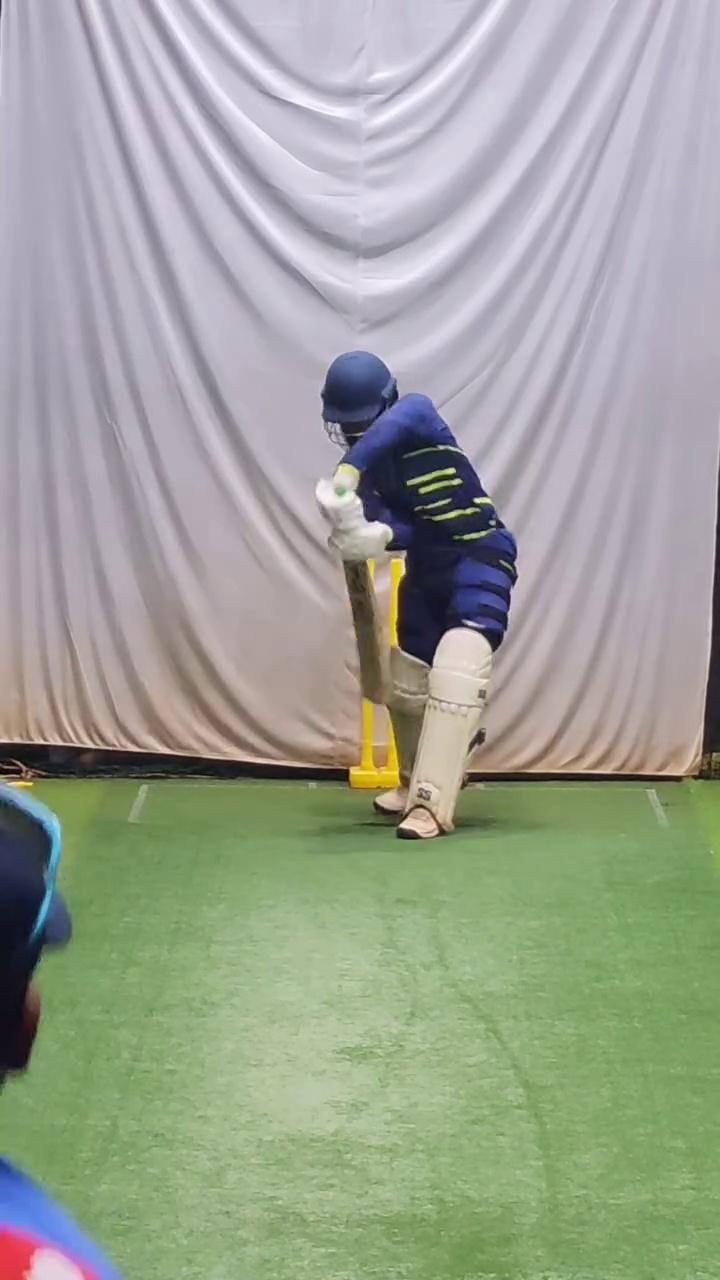bat: (340, 554, 397, 715)
